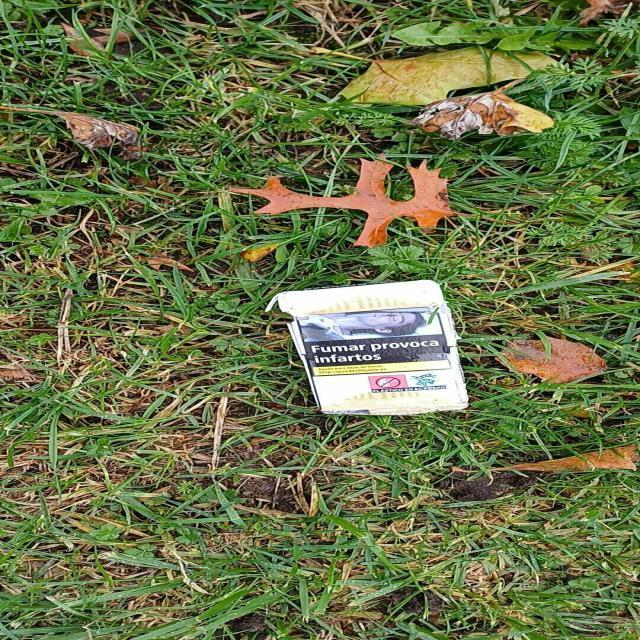Paper: (262, 278, 473, 420)
